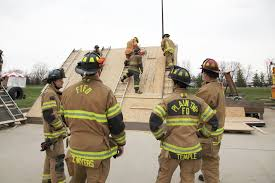emergent: (64, 54, 122, 183), (152, 67, 203, 182), (199, 58, 224, 183), (39, 68, 65, 181), (158, 34, 178, 69), (127, 48, 141, 88)
